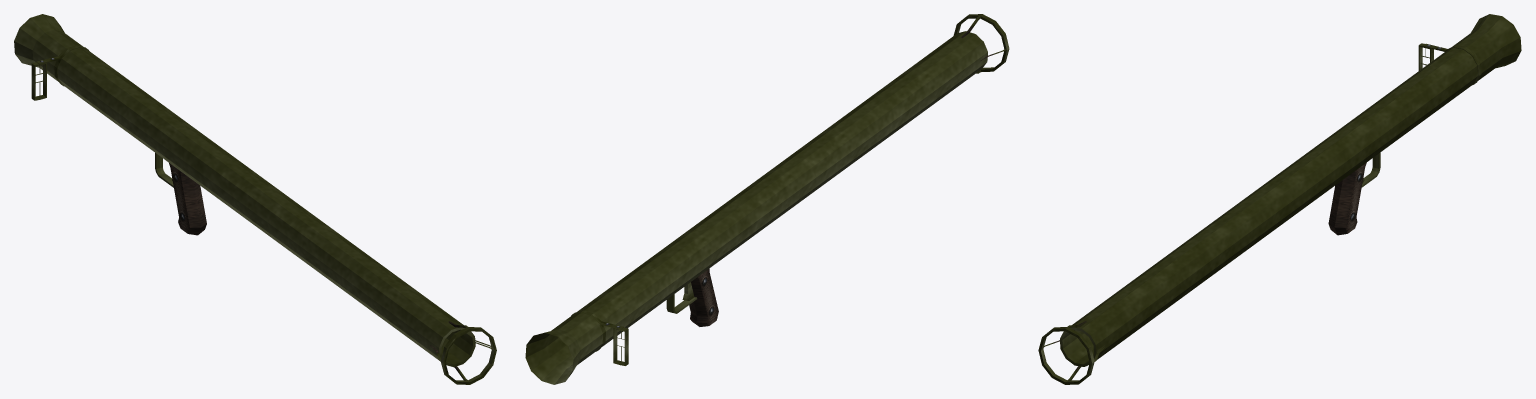
The model's file is Wpn_Bazooka.fbx.
3 renders of one model, left to right at view 1: azimuth 30°, elevation 25°; view 2: azimuth 150°, elevation 25°; view 3: azimuth 330°, elevation 25°, orthographic.
Parts seen in each view (by area): view 1: fpv_weapon; view 2: fpv_weapon; view 3: fpv_weapon.
Part boxes in pixels (x1,y1,x2,y2): fpv_weapon: (14,14,496,384); fpv_weapon: (525,14,1009,384); fpv_weapon: (1038,14,1521,384).
Size of the model in its own units: 11.85 by 17.66 by 131.
